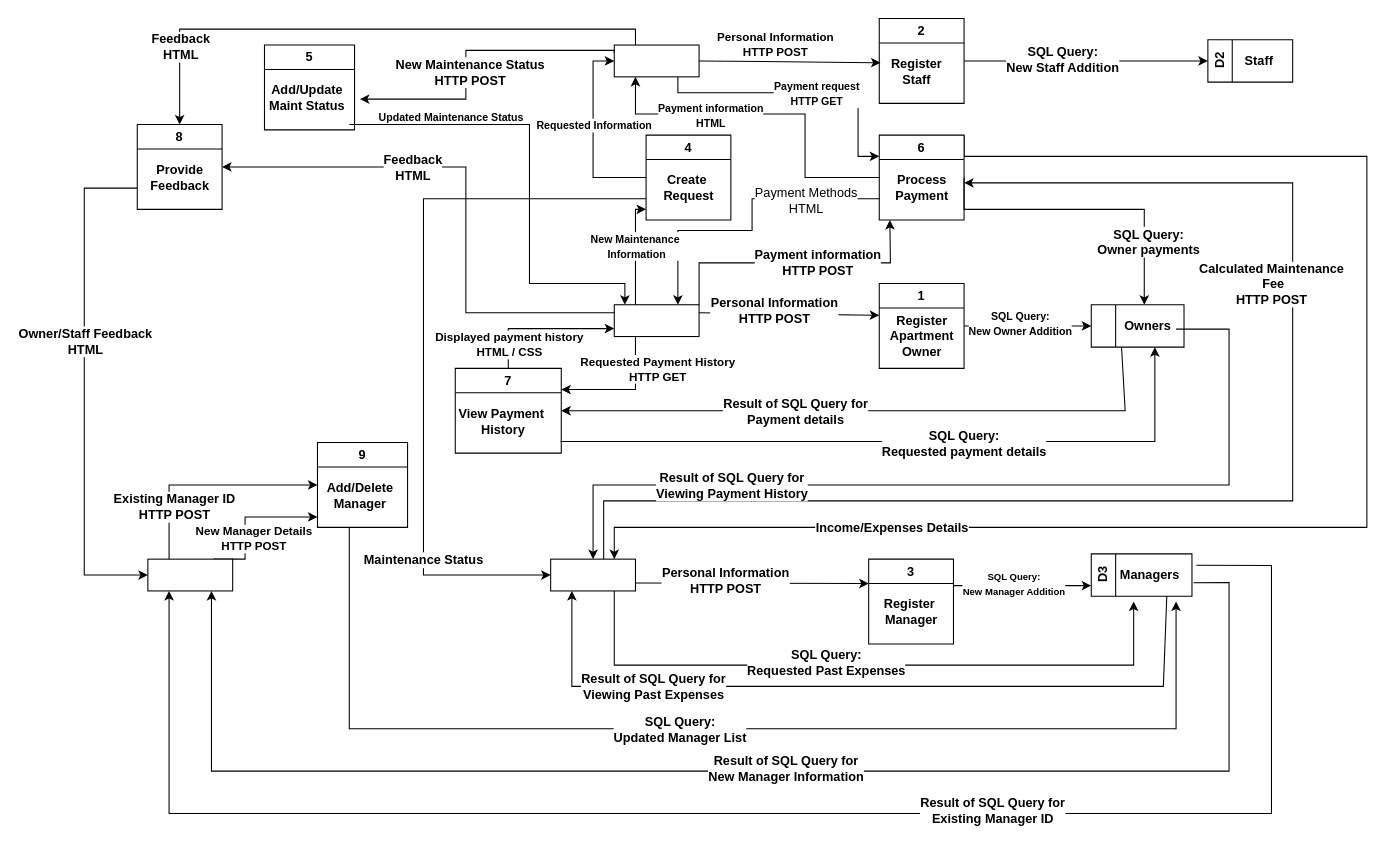
Image size: 1394x844. Some labels were removed from this diagram. Each missing label, with the box of its shape:
Administrator: (147, 558, 233, 591)
Apartment Owner: (613, 304, 699, 337)
Building Manager: (550, 558, 635, 591)
D1: (1090, 304, 1184, 347)
Maintenance Staff: (613, 44, 699, 77)
